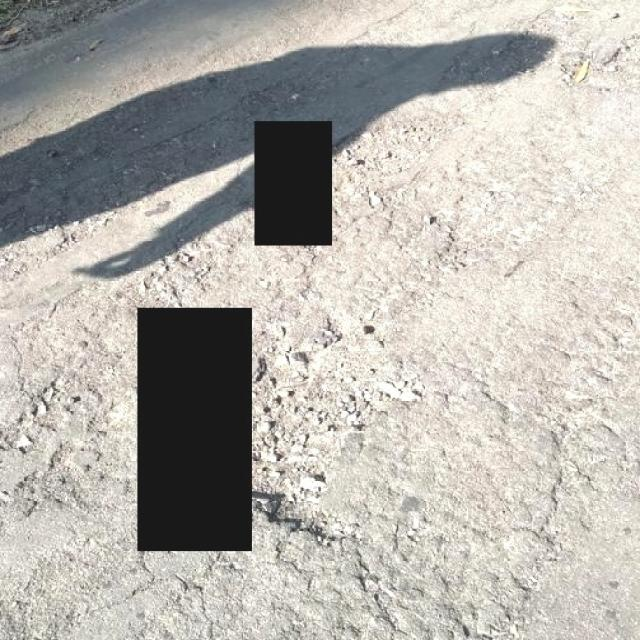road-pothole: (255, 301, 442, 552), (330, 85, 487, 199)
